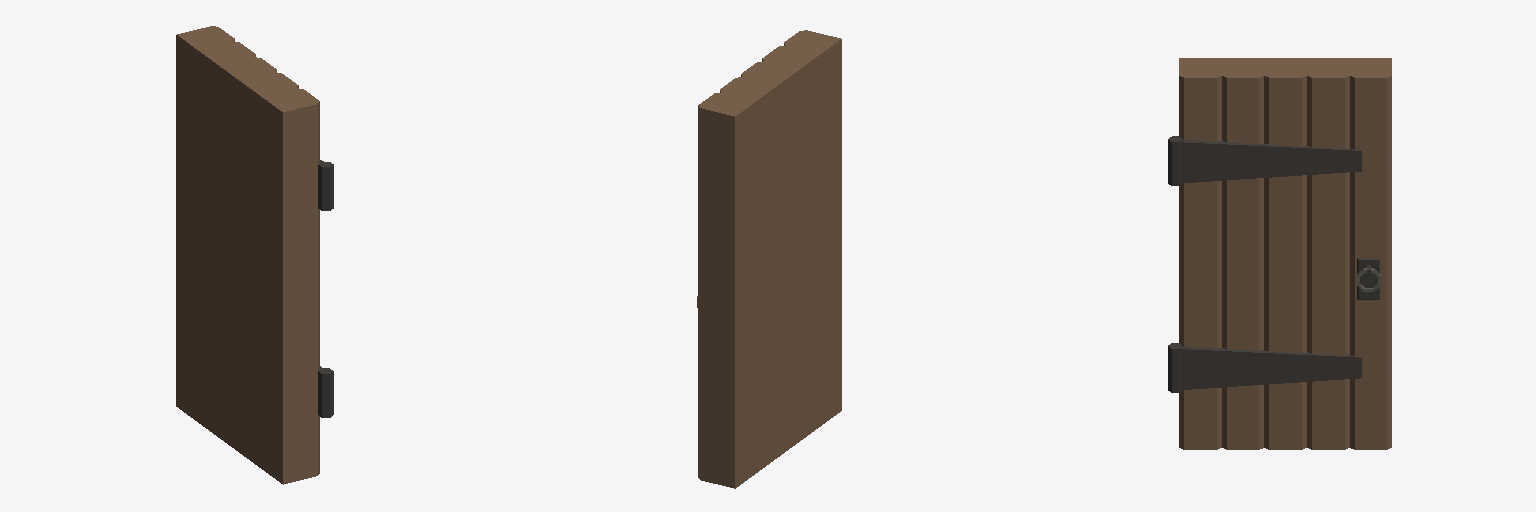
File: Wall_Prop_Door_Simple.obj
3 renders of one model, left to right at view 1: azimuth 30°, elevation 25°; view 2: azimuth 150°, elevation 25°; view 3: azimuth 270°, elevation 25°, orthographic.
Visible parts, largest first — view 1: object4, object2, object1; view 2: object4; view 3: object4, object2, object1, object3.
Part boxes in pixels (bbox=[...]): object4: bbox=[176, 26, 319, 484]; object2: bbox=[318, 366, 333, 417]; object1: bbox=[318, 160, 333, 210]; object4: bbox=[698, 30, 841, 488]; object4: bbox=[1179, 58, 1391, 449]; object2: bbox=[1168, 343, 1361, 392]; object1: bbox=[1168, 136, 1361, 185]; object3: bbox=[1357, 258, 1379, 299].
Size of the model in its own units: 0.1779 by 1.35 by 0.7375.